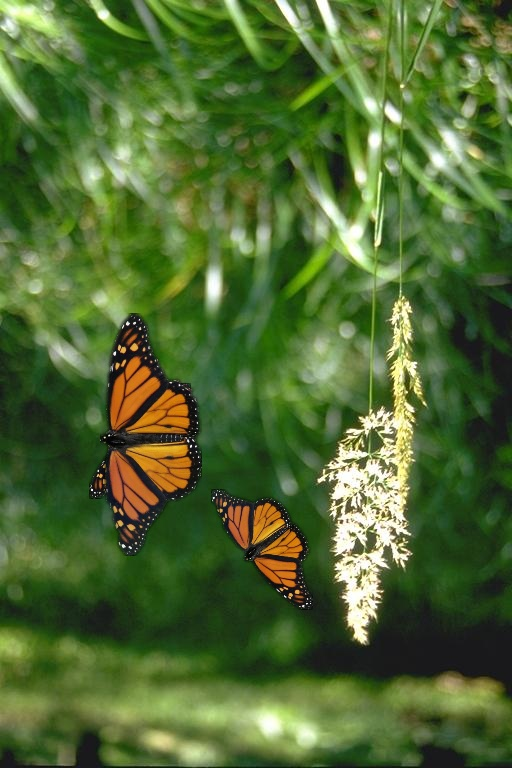danaus_plexippus: (100, 317, 202, 560), (211, 489, 313, 610), (89, 383, 191, 499)
